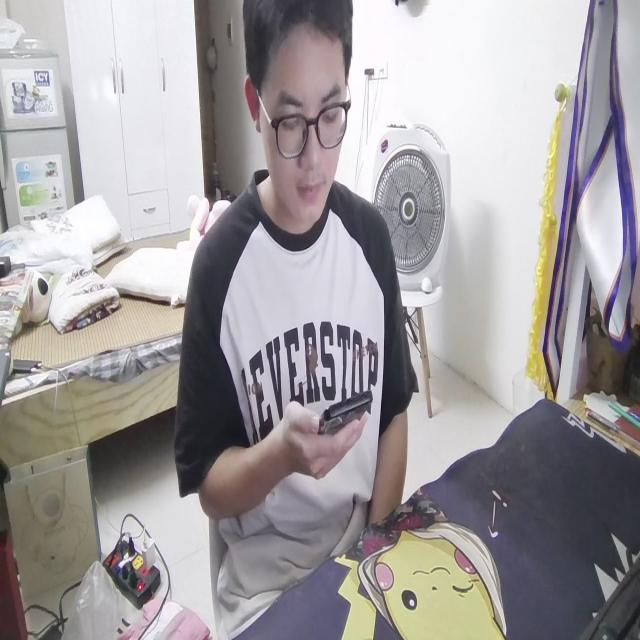phone: (317, 389, 373, 433)
student: (176, 0, 412, 618)
